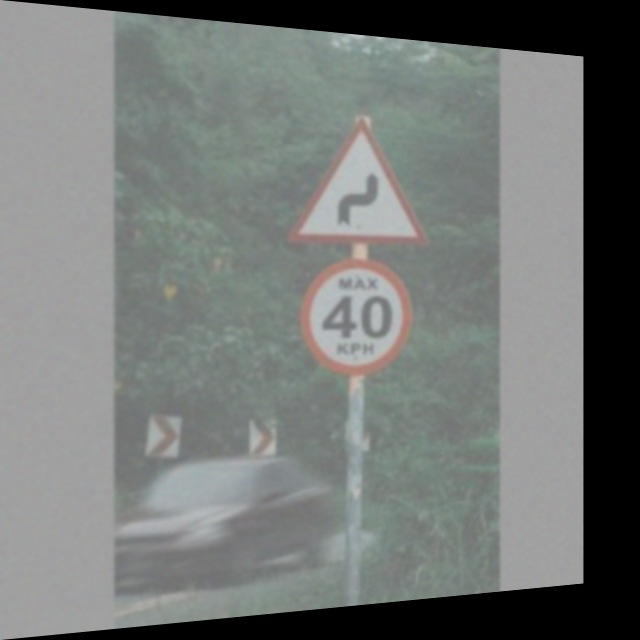Speed_Limit_40: (303, 256, 413, 380)
